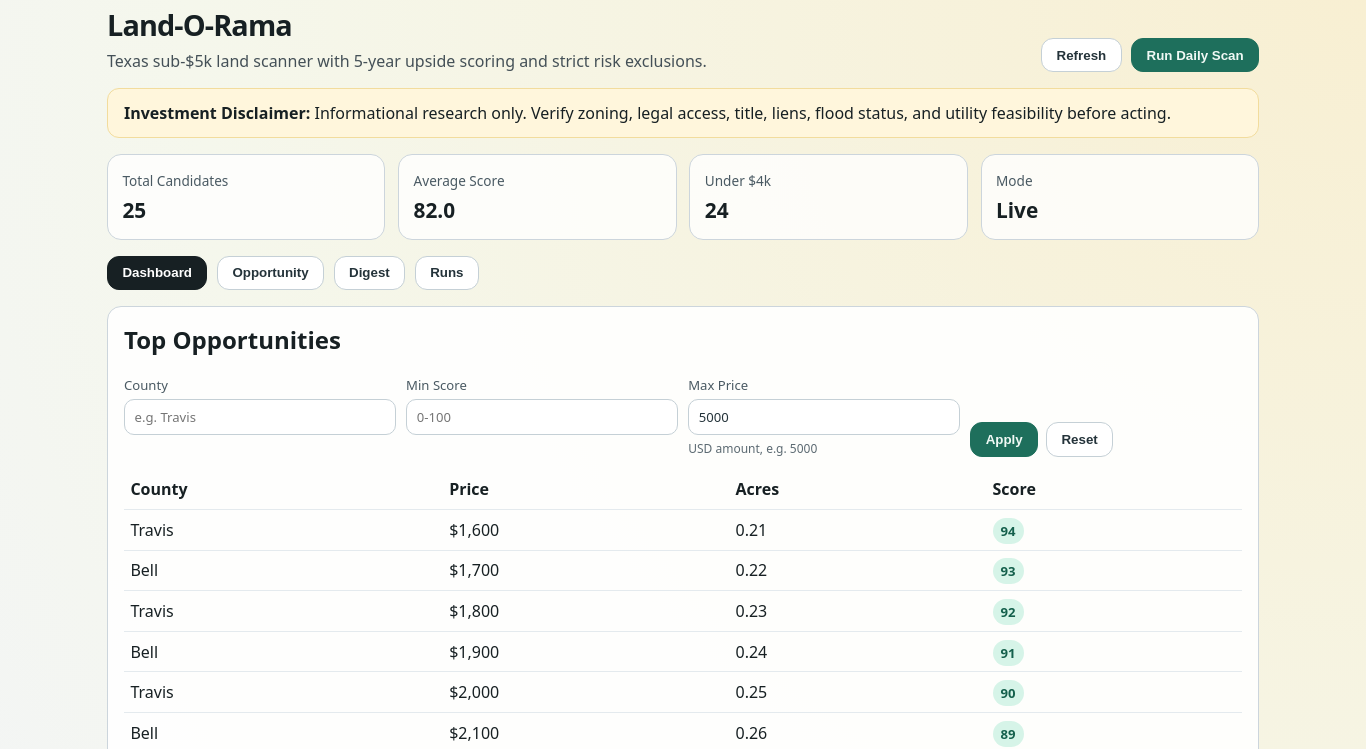
renders provider health configuration and events
The image size is (1366, 749).
Expected: the heading "Top Opportunities" is shown, [124,323,341,356]
Click the button "Runs": (447, 273) [415,256,479,290]
(page scrolled)
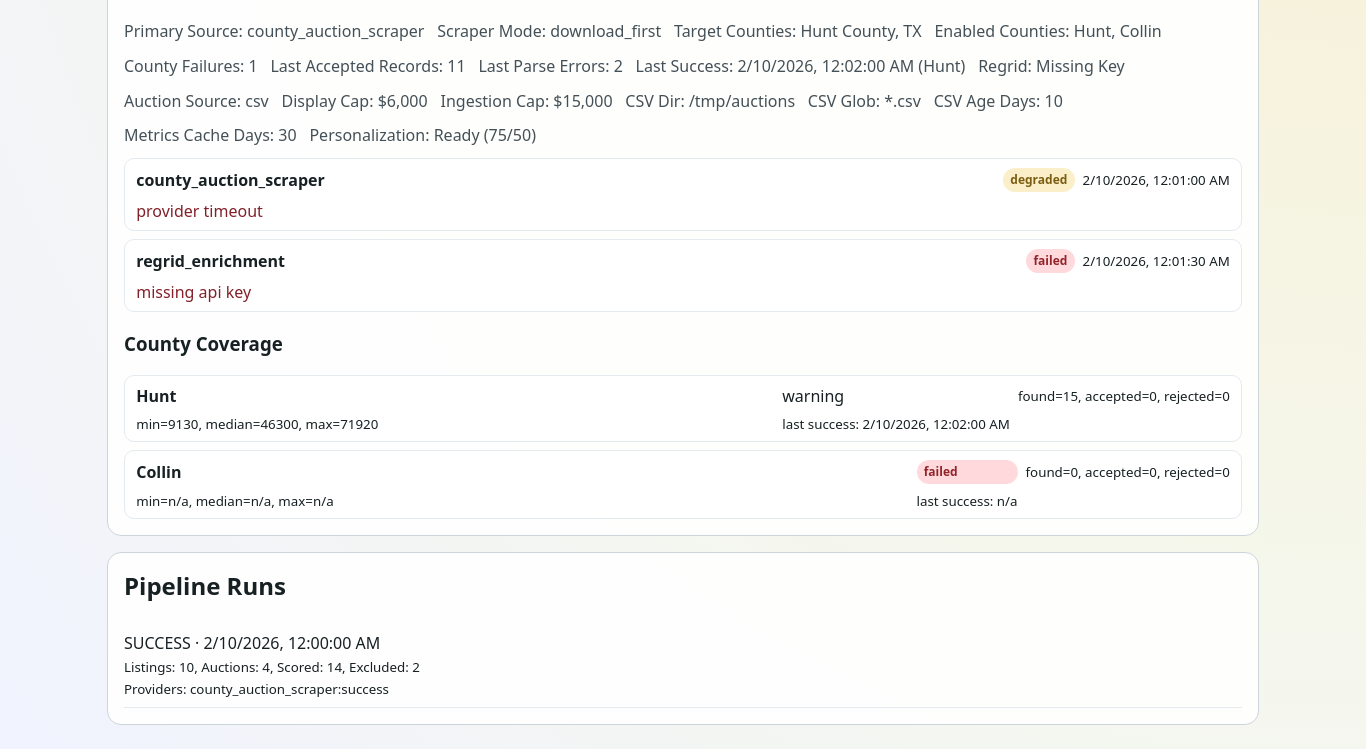
Expected: the text "Primary Source: county_auction_scraper" is shown, [124,20,424,42]
Expected: the text "Scraper Mode: download_first" is shown, [437,20,661,42]
Expected: the text "Target Counties: Hunt County, TX" is shown, [674,20,922,42]
